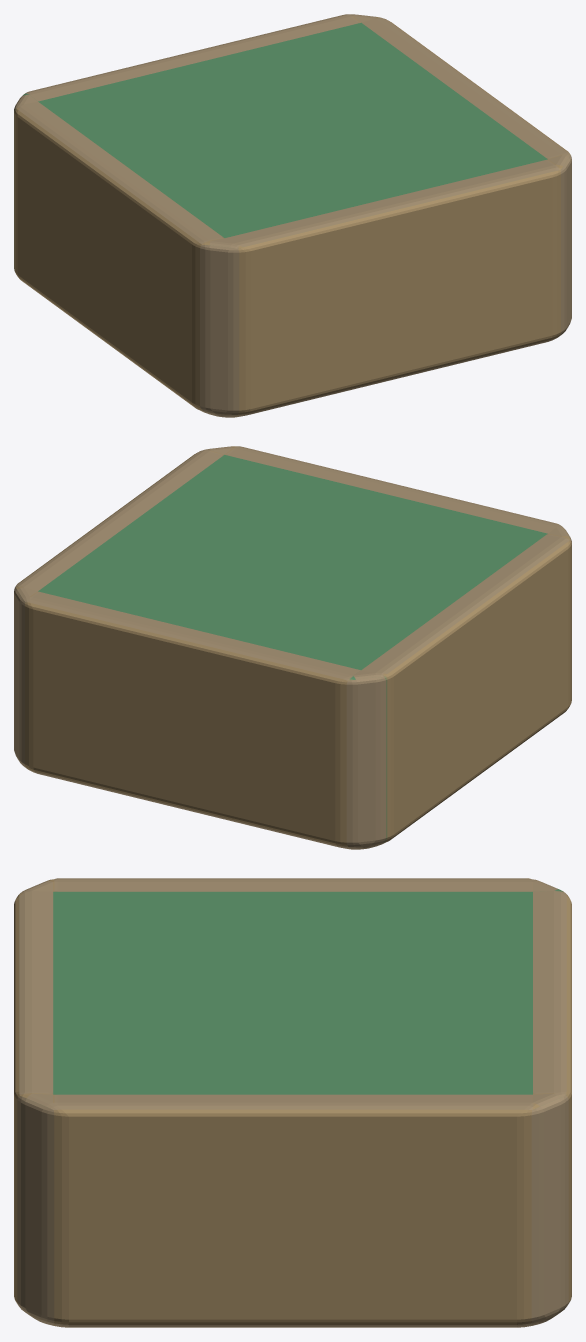
File: GridBox.fbx
The picture shows the model from 3 angles, top to bottom: view 1: azimuth 30°, elevation 25°; view 2: azimuth 150°, elevation 25°; view 3: azimuth 270°, elevation 25°; orthographic projection. The views are drawn at different scales.
Visible parts, largest first — view 1: Cube; view 2: Cube; view 3: Cube.
Part boxes in pixels (bbox=[...]): Cube: bbox=[14, 14, 571, 417]; Cube: bbox=[14, 446, 571, 849]; Cube: bbox=[14, 878, 571, 1327].
Size of the model in its own units: 200 by 92.7 by 200.
1 material, 1 textured.
